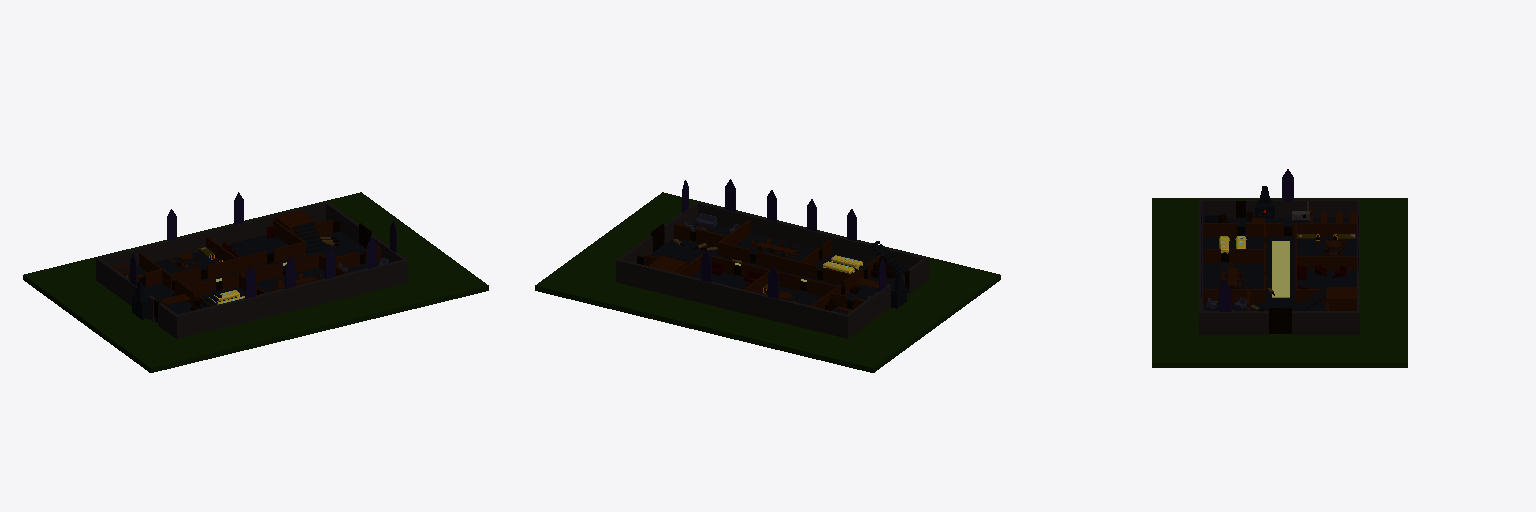
The model's file is f1_ground.obj.
3 views of the same model, side by side, from view 1: azimuth 30°, elevation 25°; view 2: azimuth 150°, elevation 25°; view 3: azimuth 270°, elevation 25° (orthographic).
Visible parts, largest first — view 1: F1_Inner_Walls.002_Cube.930; view 2: F1_Inner_Walls.002_Cube.930; view 3: F1_Inner_Walls.002_Cube.930.
Part boxes in pixels (bbox=[...]): F1_Inner_Walls.002_Cube.930: bbox=[23, 192, 488, 372]; F1_Inner_Walls.002_Cube.930: bbox=[535, 179, 1000, 372]; F1_Inner_Walls.002_Cube.930: bbox=[1152, 169, 1407, 367].
Bounding box in the file's own units: 7.02 × 1.17 × 4.59.